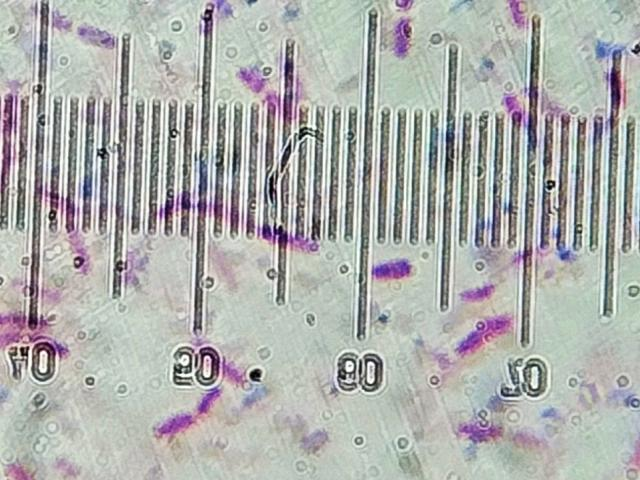E. coli: (448, 417, 543, 448), (251, 219, 319, 255), (2, 330, 73, 357), (202, 342, 248, 381), (459, 320, 512, 351), (385, 17, 418, 62), (59, 229, 92, 266), (376, 257, 414, 286), (461, 277, 501, 304), (79, 22, 119, 48), (191, 390, 220, 425), (155, 409, 190, 437), (6, 309, 60, 327), (39, 0, 70, 31), (235, 65, 263, 90), (271, 93, 302, 113), (496, 89, 525, 110), (502, 0, 529, 22)
